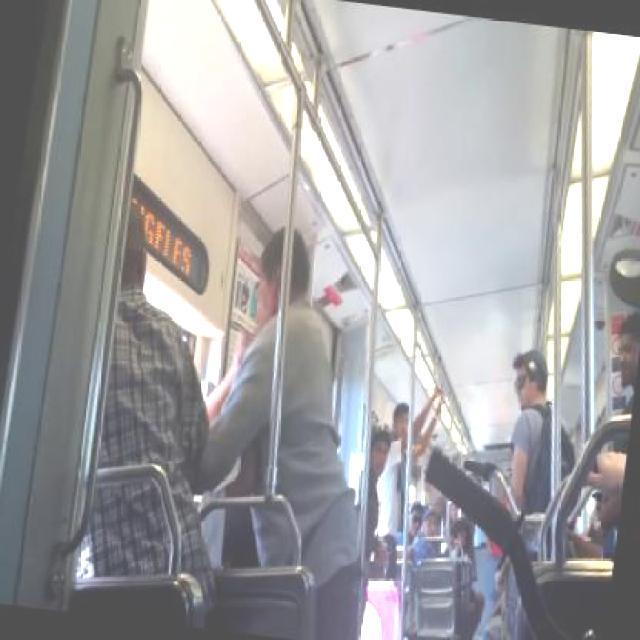fight: (158, 212, 407, 582)
non-fight: (493, 343, 584, 506)
